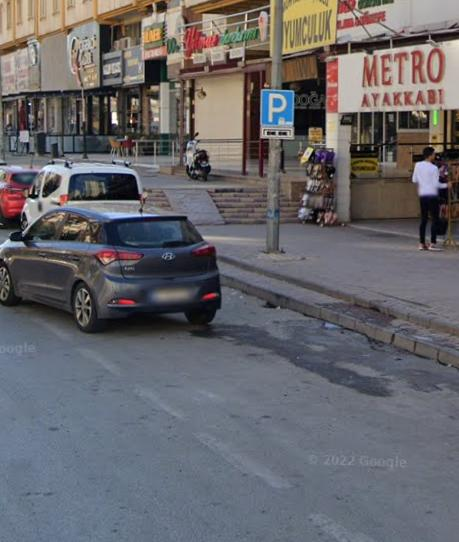park: (262, 91, 298, 128)
